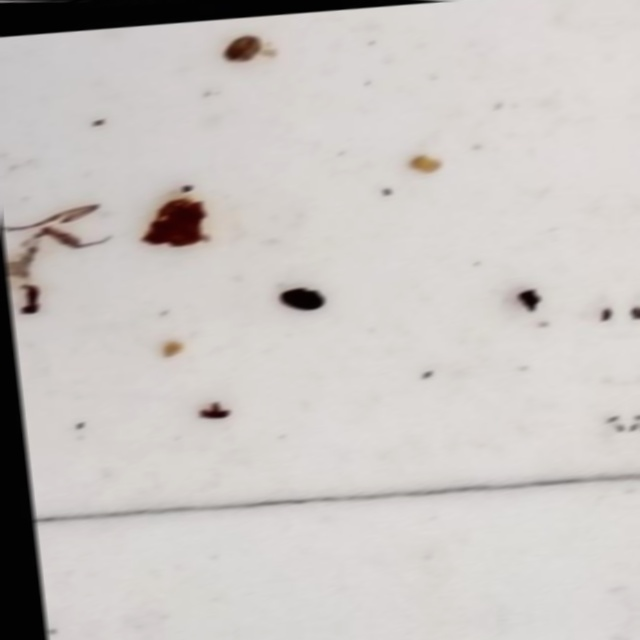varroa: (272, 284, 323, 313)
